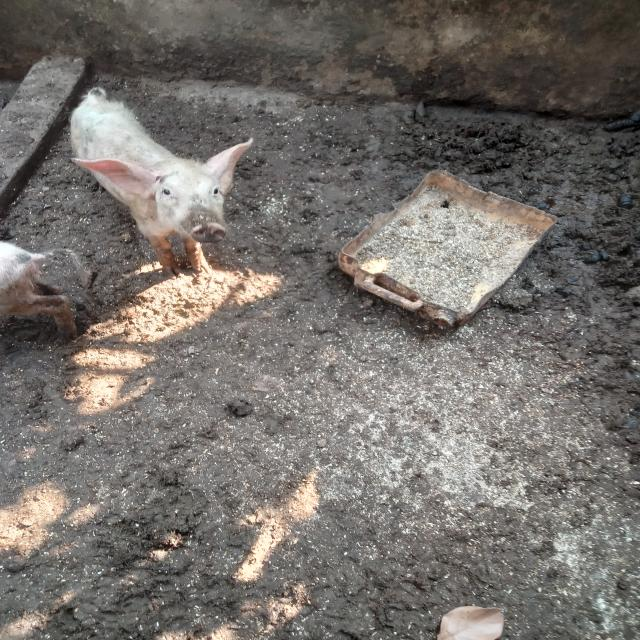pig: (37, 63, 275, 330)
